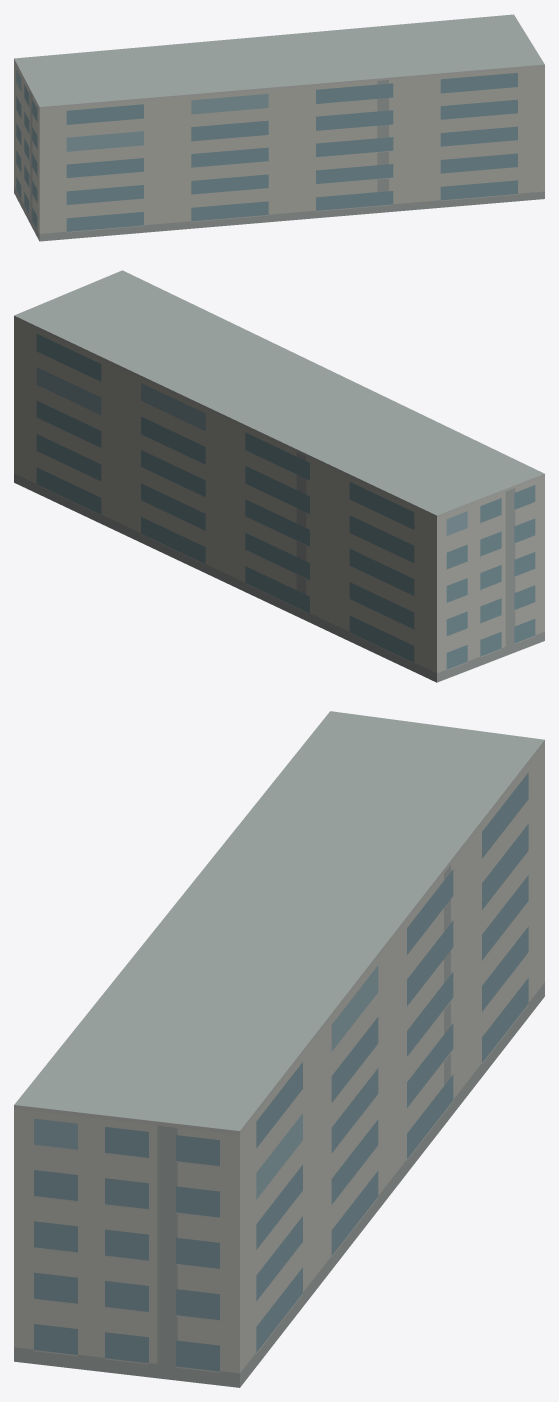
The model's file is residential-c9eb3d69-85a2-435f-84c8-33970f04a14a.glb.
3 renders of one model, top to bottom at view 1: azimuth 30°, elevation 25°; view 2: azimuth 150°, elevation 25°; view 3: azimuth 270°, elevation 25°, orthographic. The views are drawn at different scales.
Parts seen in each view (by area): view 1: residential-c9eb3d69-85a2-435f-84c8-33970f04a14a.tmp; view 2: residential-c9eb3d69-85a2-435f-84c8-33970f04a14a.tmp; view 3: residential-c9eb3d69-85a2-435f-84c8-33970f04a14a.tmp.
Boxes of the visible parts, <box> form: residential-c9eb3d69-85a2-435f-84c8-33970f04a14a.tmp: <box>14,14,544,241</box>; residential-c9eb3d69-85a2-435f-84c8-33970f04a14a.tmp: <box>14,270,544,682</box>; residential-c9eb3d69-85a2-435f-84c8-33970f04a14a.tmp: <box>14,711,544,1387</box>.
Size of the model in its own units: 53.52 by 15.25 by 28.59.
